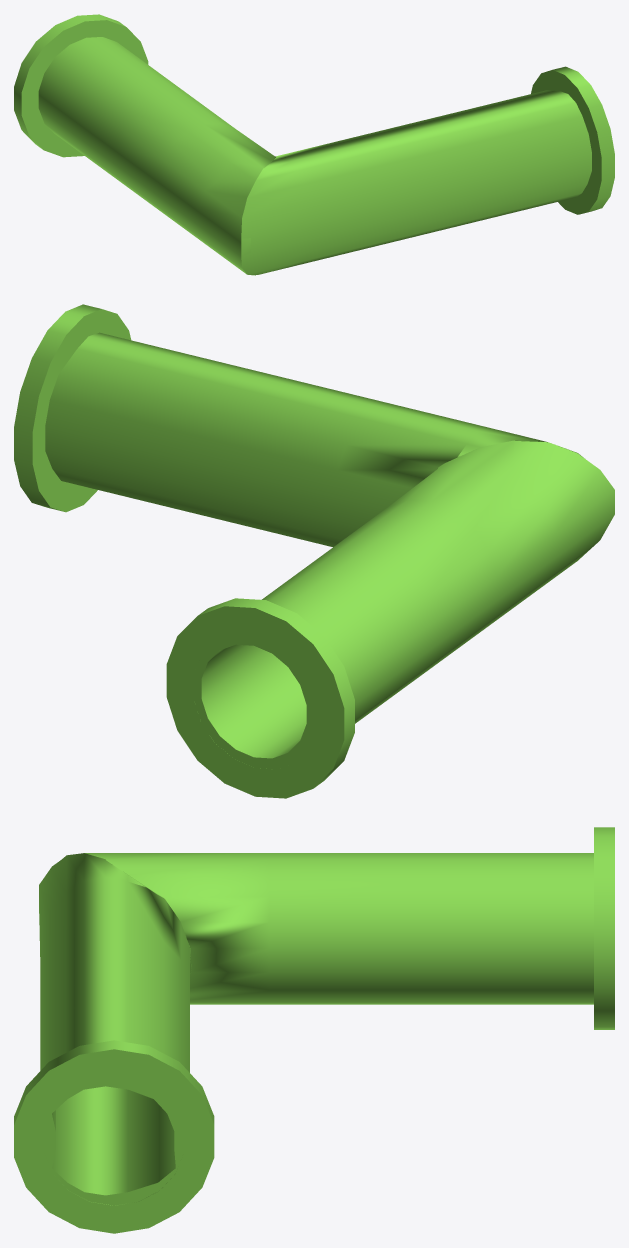
Rendered from PipeBent.obj.
3 views of the same model, one above another, from view 1: azimuth 30°, elevation 25°; view 2: azimuth 150°, elevation 25°; view 3: azimuth 270°, elevation 25° (orthographic). The views are drawn at different scales.
Parts seen in each view (by area): view 1: BentPipe; view 2: BentPipe; view 3: BentPipe.
Part boxes in pixels (x1=…): BentPipe: x1=14, y1=14, x2=614, y2=275; BentPipe: x1=14, y1=304, x2=614, y2=798; BentPipe: x1=14, y1=827, x2=614, y2=1233.
Size of the model in its own units: 227 by 76.38 by 226.
